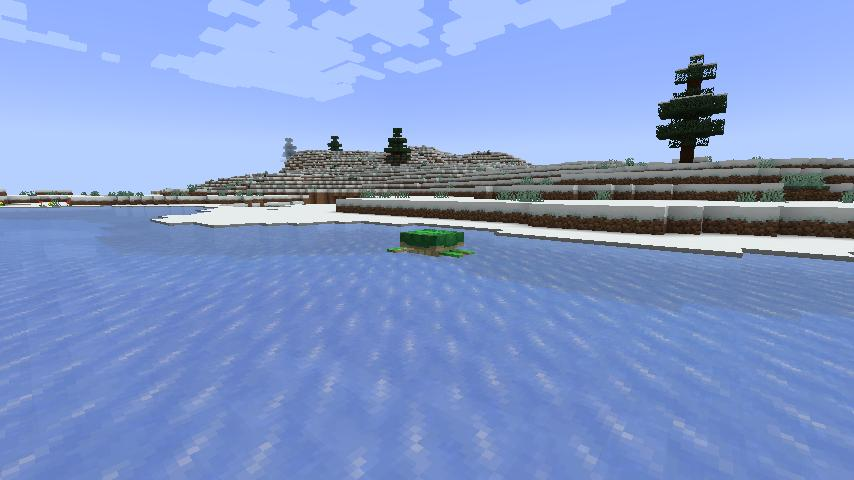turtle: (386, 225, 475, 260)
